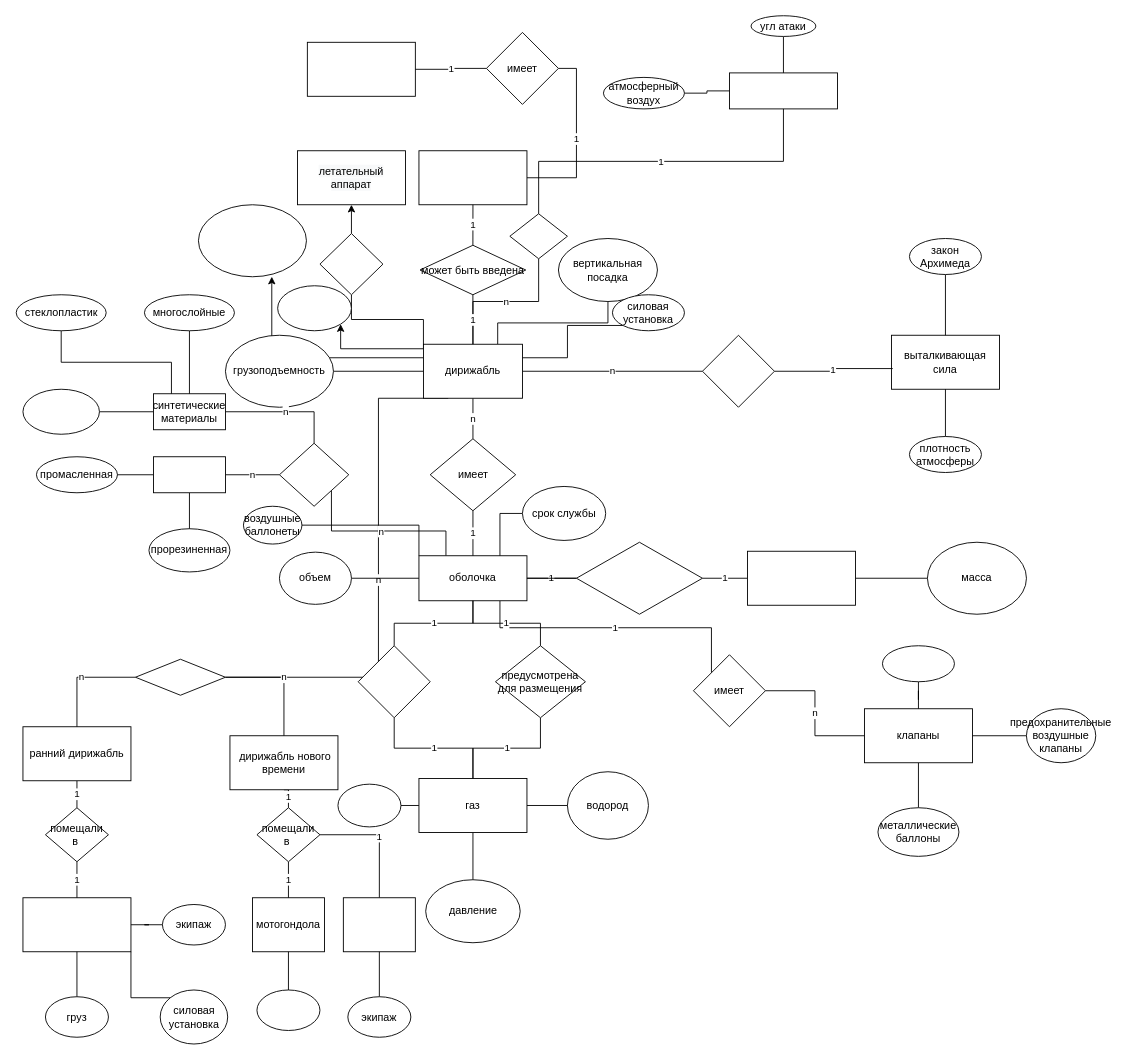
Some shapes in this 1127 by 1060 pixel diagram are drawn without their labels. The shapes that lost their labels are listed below. From the top down, each one's centre as x and y in pixels, then its label:
point 360,68: аэродинамическая подъёмная сила оболочки
point 783,90: подъемная сила
point 472,177: система управления подъёмной силой
point 252,240: плотность
point 538,236: возникает
point 351,264: является
point 314,308: среда:воздух
point 738,370: летает за счет
point 60,411: однослойные
point 189,474: ткань
point 314,474: делают из
point 639,577: предусмотрена
point 801,577: конструкция
point 180,676: разделяется на
point 393,681: наполняется
point 918,663: газовые клапаны
point 369,805: гелий
point 76,924: гондола
point 378,924: пассажирская гондола
point 288,1009: двигатель
